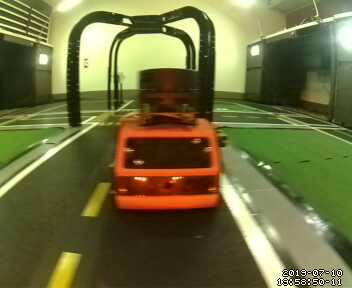pheeno: (114, 69, 225, 218)
